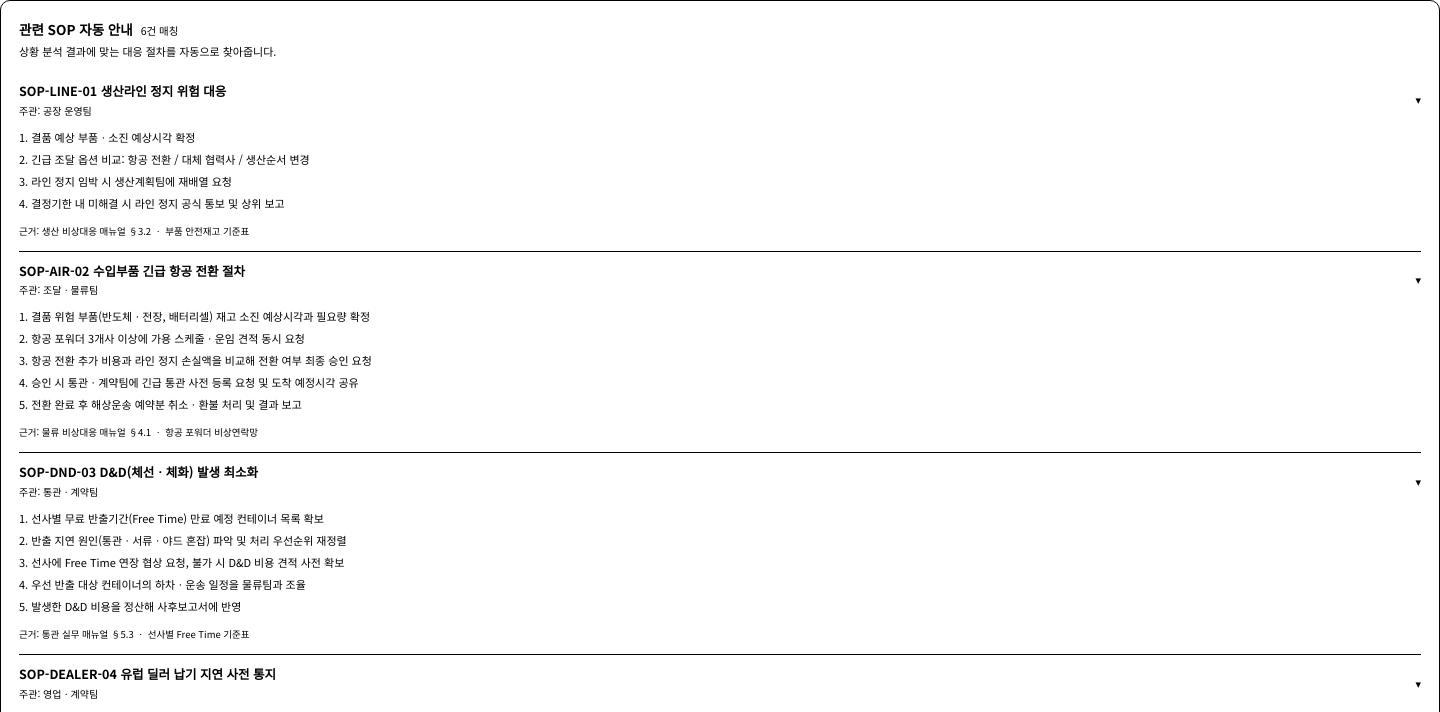
SopPanel — 정상 시나리오(steps가 채워진 항목 펼치기/접기) › steps가 채워진 SOP는 기본으로 펼쳐져 있고, 클릭하면 접히고 다시 클릭하면 펼쳐진다
Expected: the list item "2. 항공 포워더 3개사 이상에 가용 스케줄ㆍ운임 견적 동시 요청" is shown, [19,330,305,346]
Step 1. Click the text "SOP-AIR-02 수입부품 긴급 항공 전환 절차" → (132, 271), box [19,262,245,280]
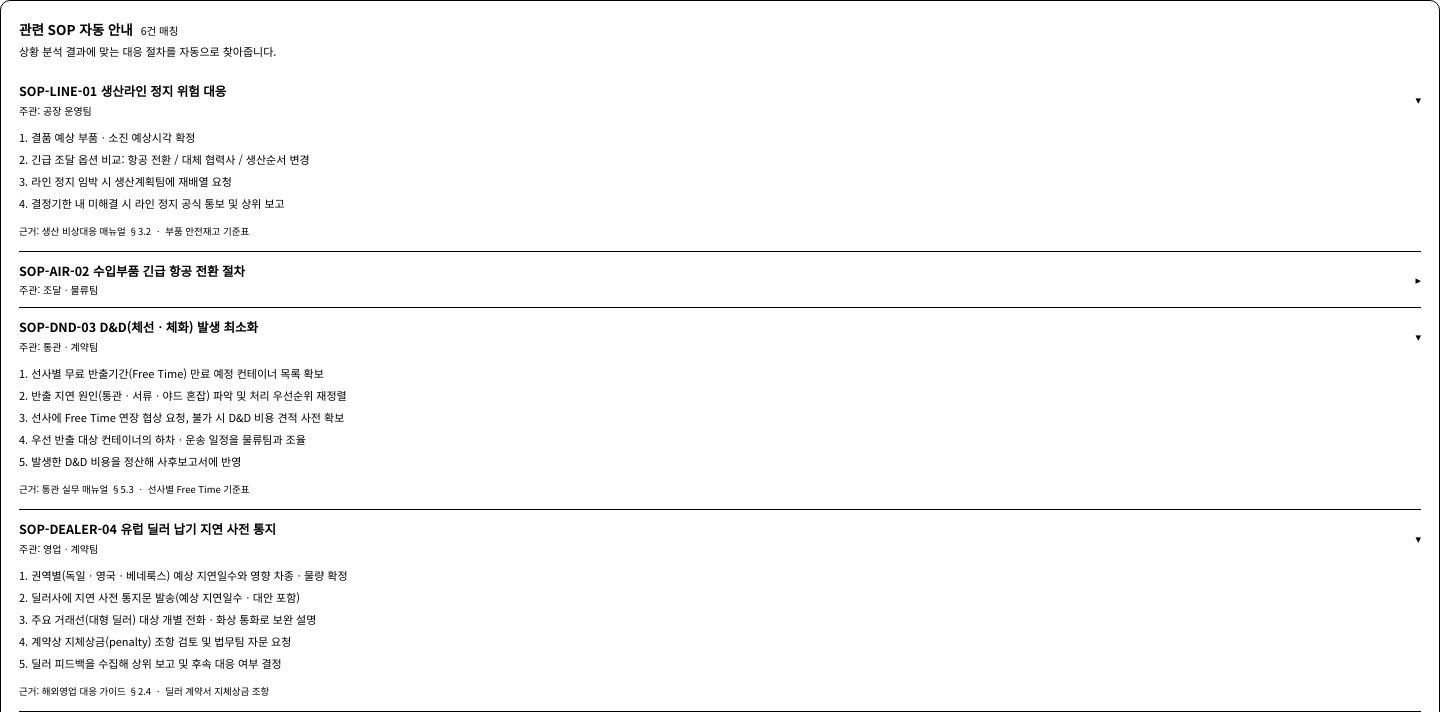
Expected: the list item "항공 포워더 3개사 이상에 가용 스케줄ㆍ운임 견적 동시 요청" is gone
Step 2. Click the text "SOP-AIR-02 수입부품 긴급 항공 전환 절차" → (132, 271), box [19,262,245,280]
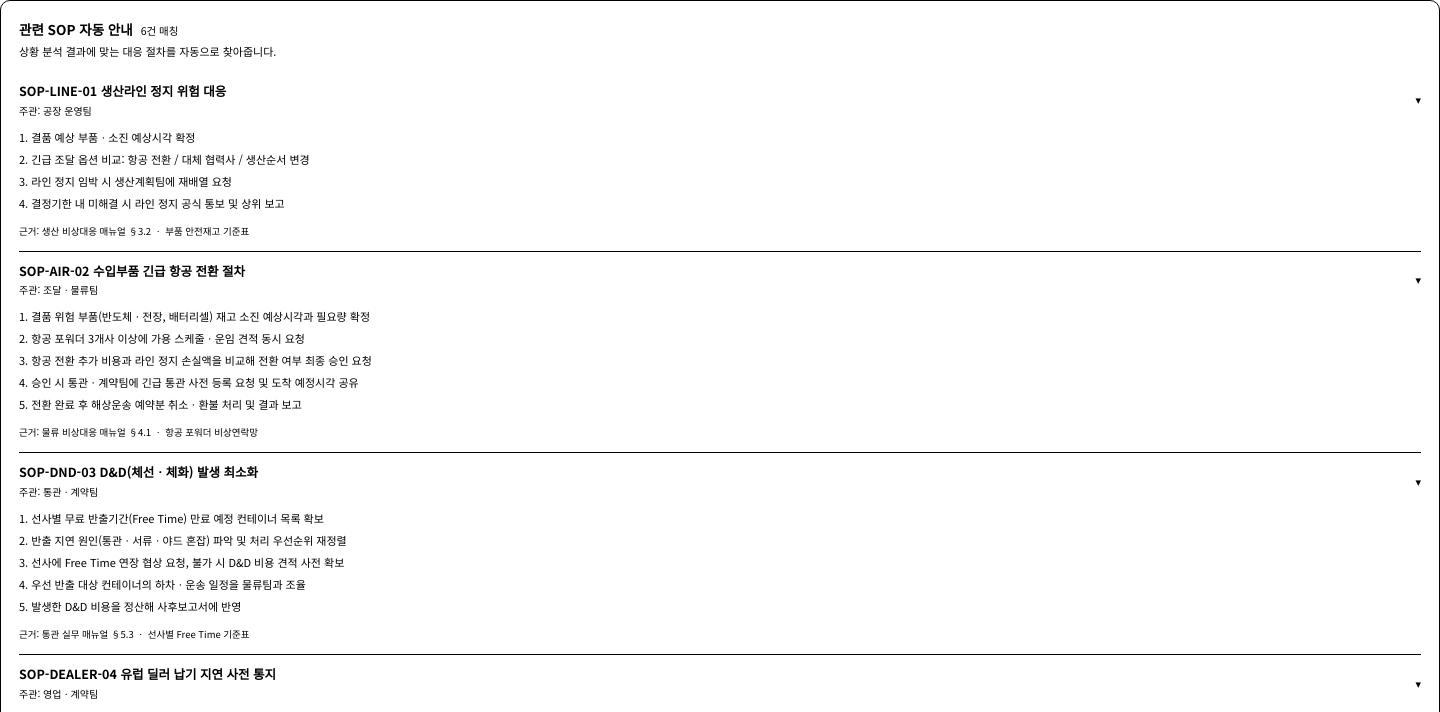
Expected: the list item "2. 항공 포워더 3개사 이상에 가용 스케줄ㆍ운임 견적 동시 요청" is shown, [19,330,305,346]
